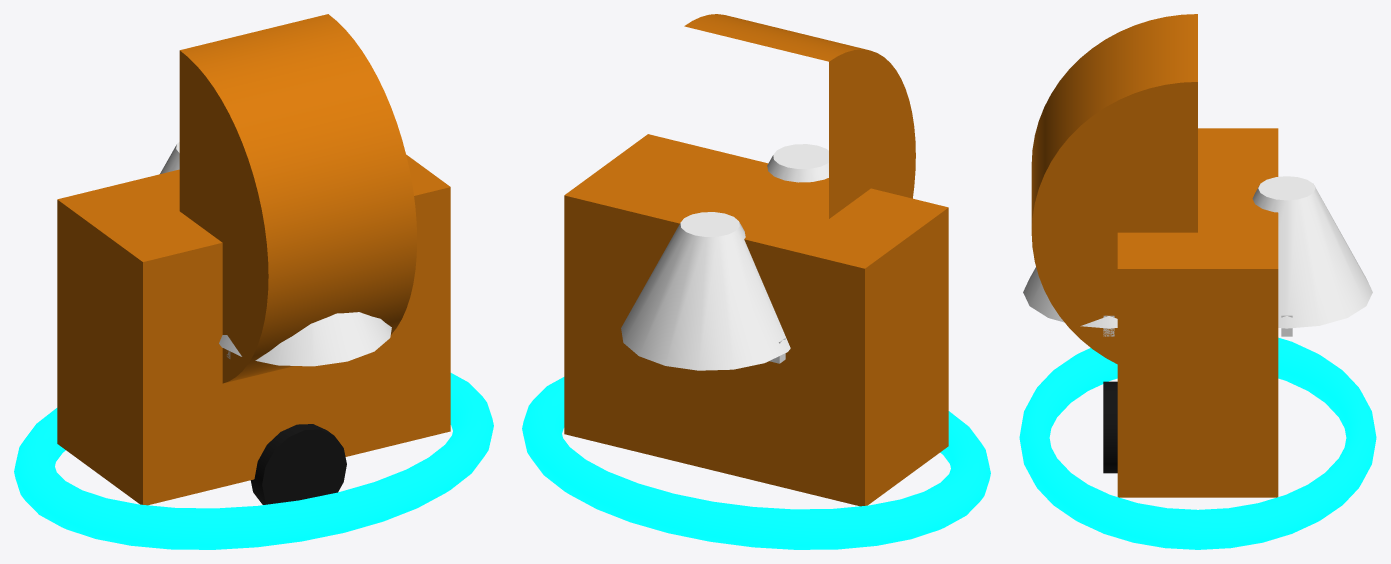
File: bell_token.glb
3 renders of one model, left to right at view 1: azimuth 30°, elevation 25°; view 2: azimuth 150°, elevation 25°; view 3: azimuth 270°, elevation 25°, orthographic. The views are drawn at different scales.
Parts seen in each view (by area): view 1: bell_token, selection_glow; view 2: bell_token, selection_glow; view 3: bell_token, selection_glow.
Boxes of the visible parts, x1,y1,x2,y2 form: bell_token: (57, 14, 450, 505); selection_glow: (14, 373, 493, 549); bell_token: (564, 14, 948, 506); selection_glow: (522, 377, 990, 549); bell_token: (1023, 14, 1372, 497); selection_glow: (1019, 337, 1376, 549).
Size of the model in its own units: 0.83 by 0.81 by 0.6225.
